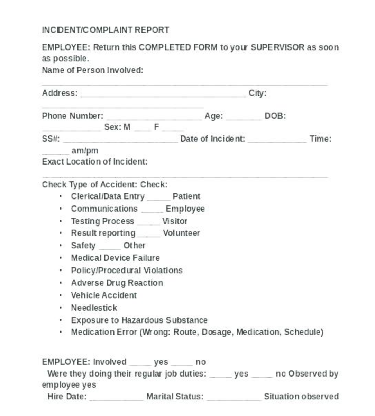textline: (38, 74, 330, 87), (39, 166, 331, 179), (37, 99, 209, 112), (78, 88, 249, 98), (62, 133, 180, 144), (105, 110, 205, 122), (36, 121, 105, 134), (246, 133, 310, 145), (88, 390, 147, 403), (206, 391, 264, 404), (224, 109, 265, 122), (39, 144, 71, 156), (169, 355, 195, 368), (145, 189, 172, 201), (139, 203, 166, 215), (136, 217, 163, 229), (127, 355, 153, 367), (160, 122, 191, 132), (97, 239, 122, 251), (208, 369, 234, 380), (251, 368, 274, 380), (136, 229, 162, 239), (130, 122, 153, 132)
